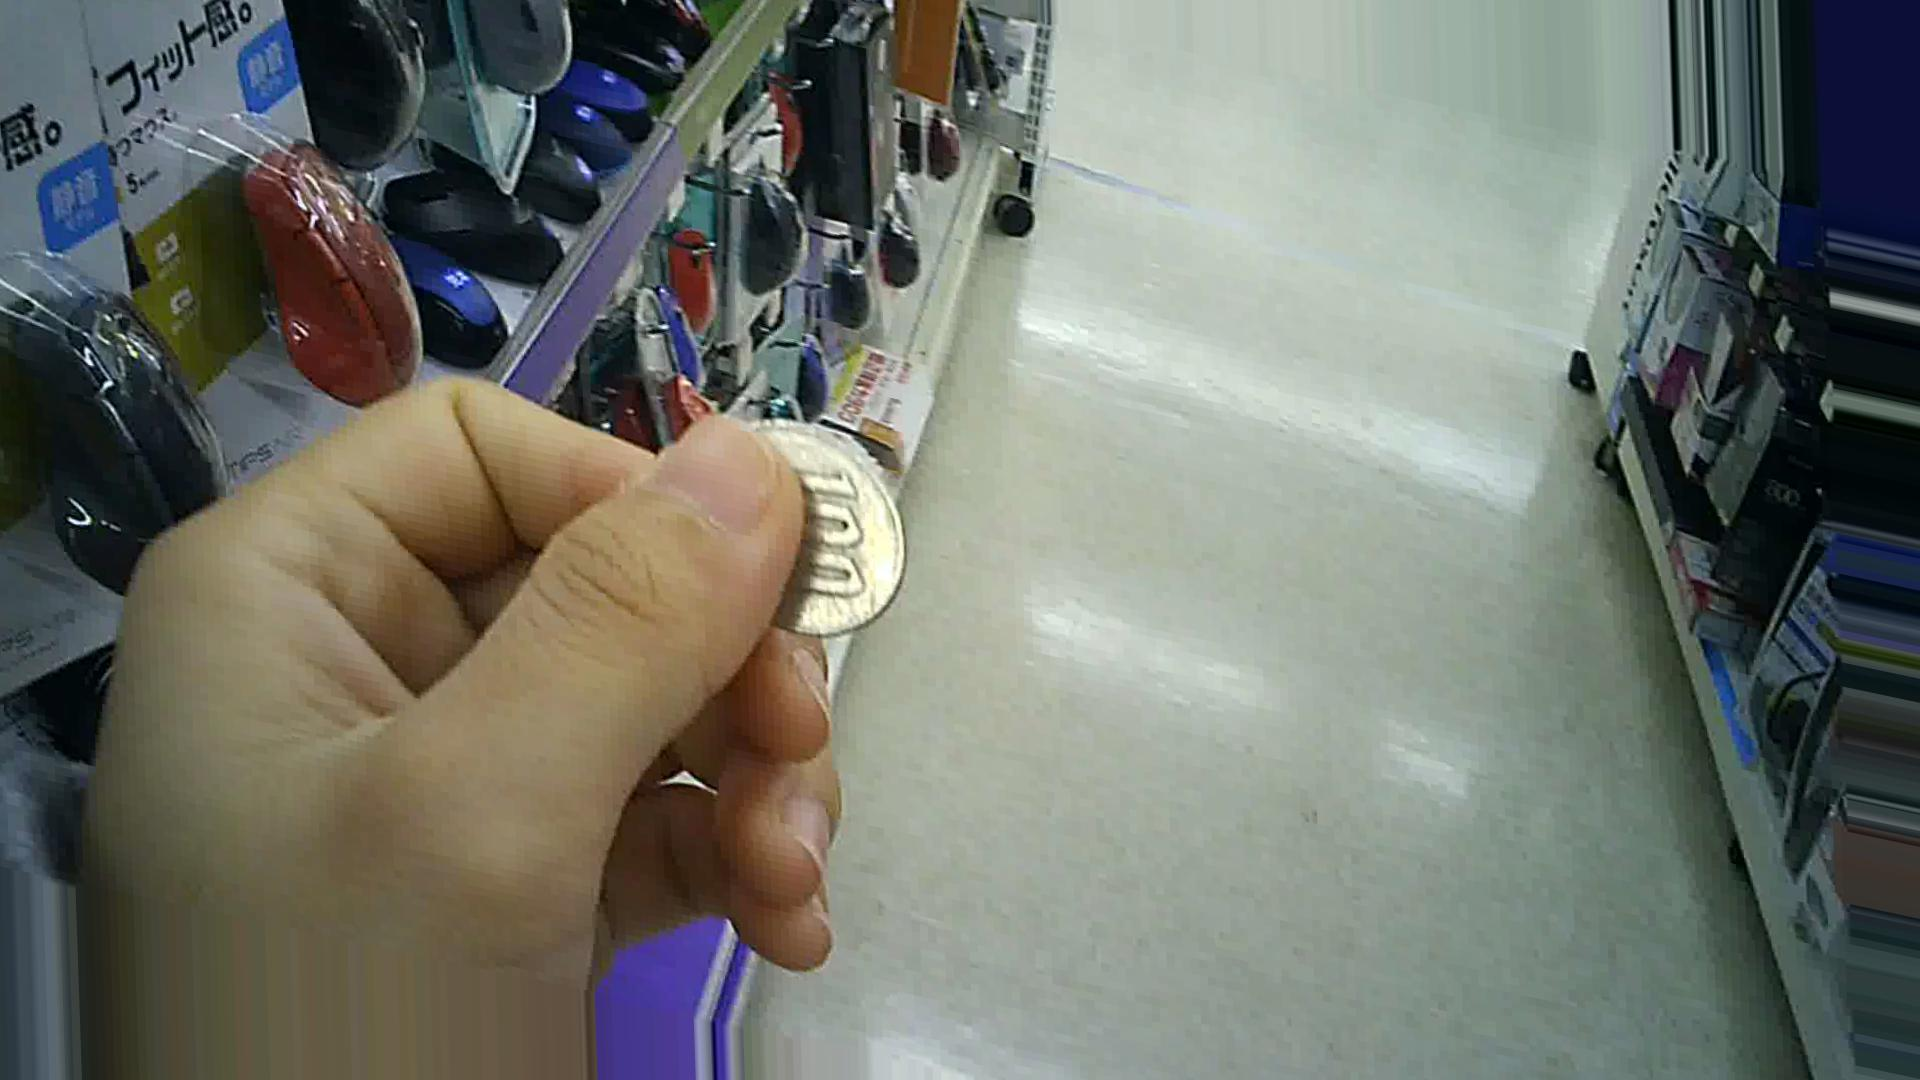100 Yen: (688, 402, 907, 651)
